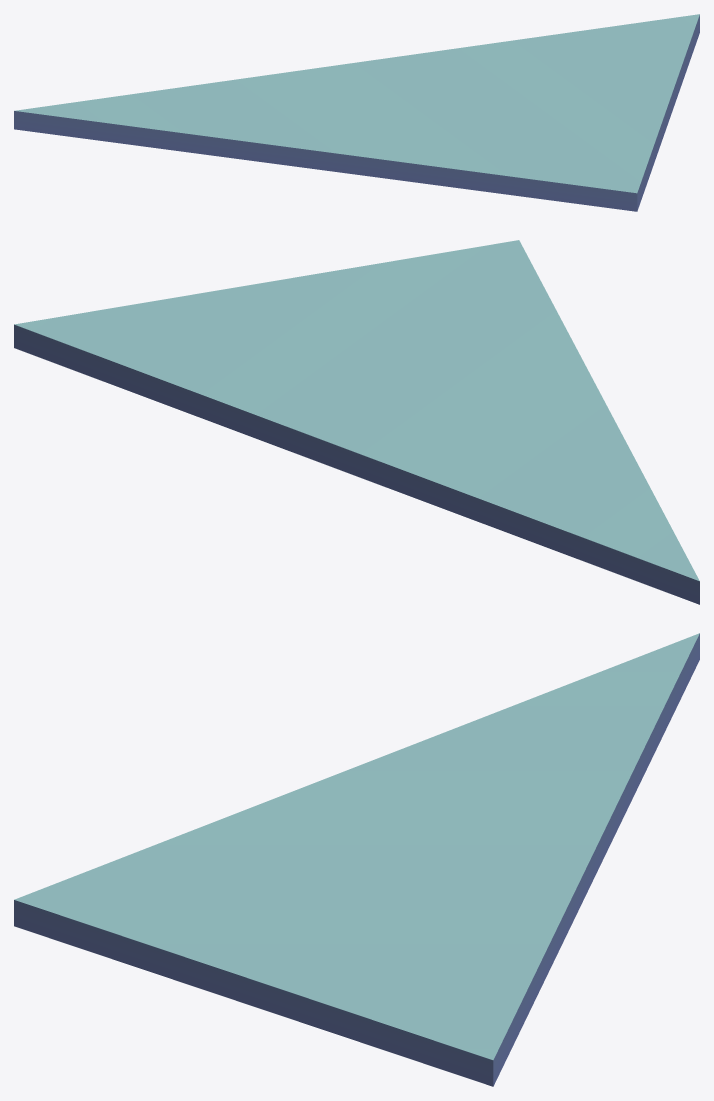
Rendered from Tri.fbx.
3 renders of one model, top to bottom at view 1: azimuth 30°, elevation 25°; view 2: azimuth 150°, elevation 25°; view 3: azimuth 270°, elevation 25°, orthographic. The views are drawn at different scales.
Visible parts, largest first — view 1: Tri_geo; view 2: Tri_geo; view 3: Tri_geo.
Boxes of the visible parts, x1,y1,x2,y2 form: Tri_geo: (14,14,699,211); Tri_geo: (14,240,699,604); Tri_geo: (14,633,699,1086).
Bounding box in the file's own units: 26.6 × 0.7682 × 18.05.
Materials: 1 (1 with a texture image).
